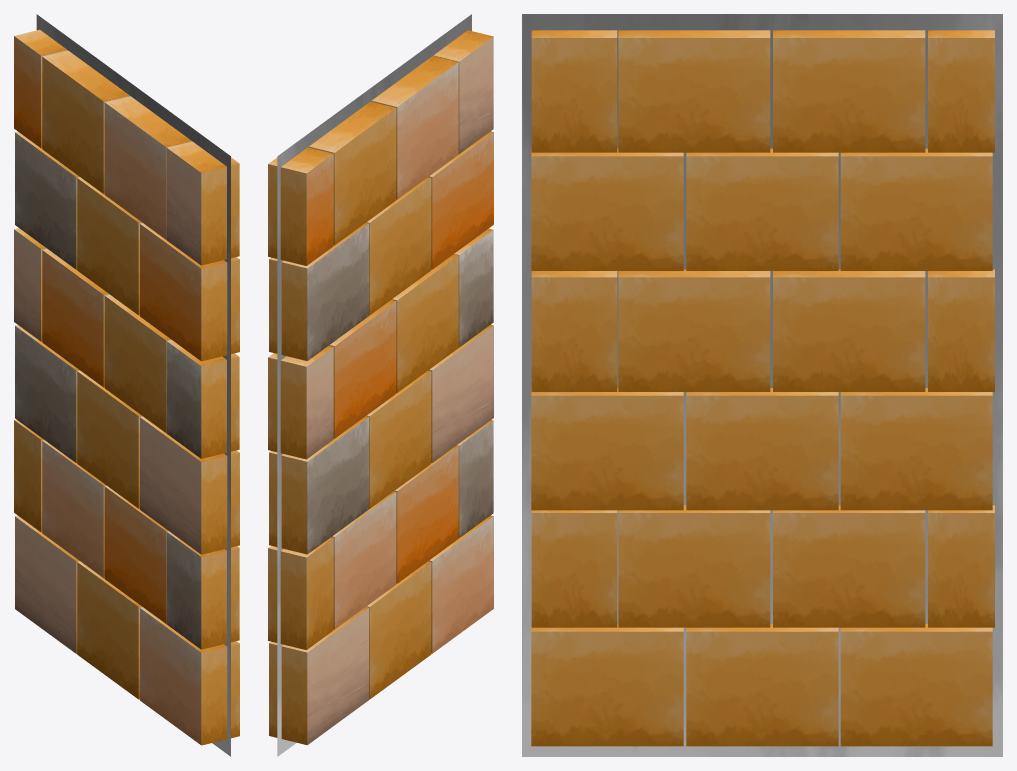
File: Door_BrickWall.gltf
The picture shows the model from 3 angles, left to right: view 1: azimuth 30°, elevation 25°; view 2: azimuth 150°, elevation 25°; view 3: azimuth 270°, elevation 25°; orthographic projection. The views are drawn at different scales.
Visible parts, largest first — view 1: Obj_Wall_Brick; view 2: Obj_Wall_Brick; view 3: Obj_Wall_Brick.
Boxes of the visible parts, x1,y1,x2,y2 form: Obj_Wall_Brick: (14,14,239,756); Obj_Wall_Brick: (268,14,493,756); Obj_Wall_Brick: (522,14,1002,756).
Size of what is drawn, in the model's own units: 0.1751 by 2.61 by 1.53.
1 material, 1 textured.
